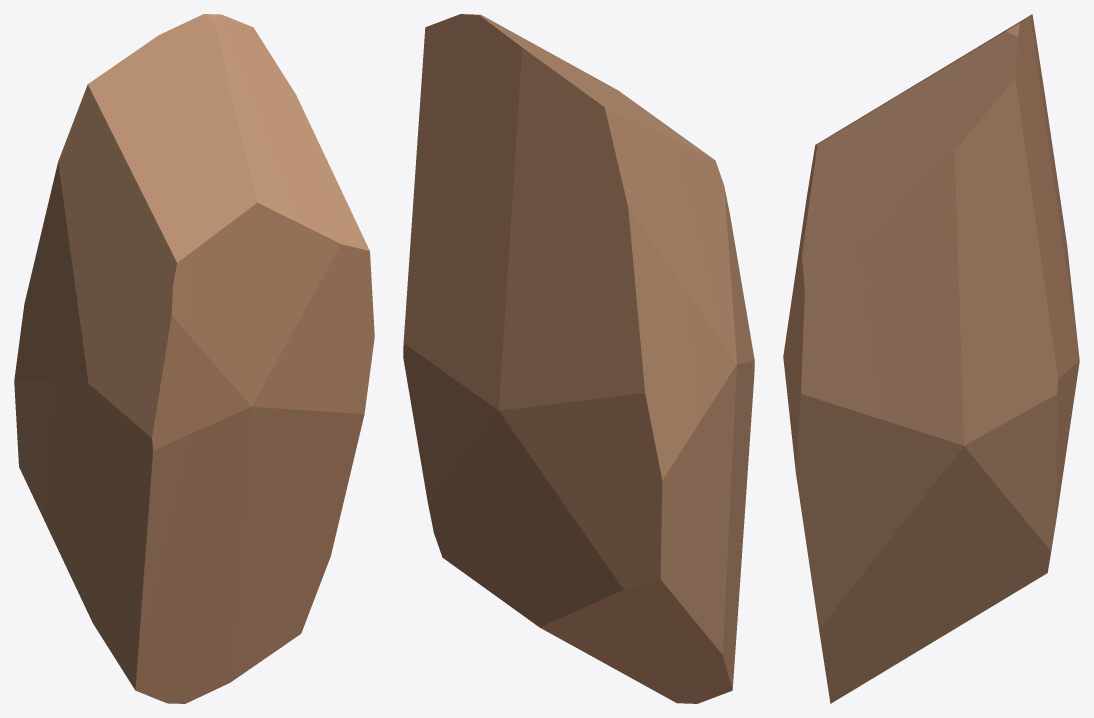
File: Rock_5.fbx
3 renders of one model, left to right at view 1: azimuth 30°, elevation 25°; view 2: azimuth 150°, elevation 25°; view 3: azimuth 270°, elevation 25°, orthographic. The views are drawn at different scales.
Visible parts, largest first — view 1: Rock.005; view 2: Rock.005; view 3: Rock.005.
Boxes of the visible parts, x1,y1,x2,y2 form: Rock.005: (14, 14, 374, 703); Rock.005: (403, 14, 754, 703); Rock.005: (783, 14, 1079, 703).
Bounding box in the file's own units: 541 × 467 × 1263.
